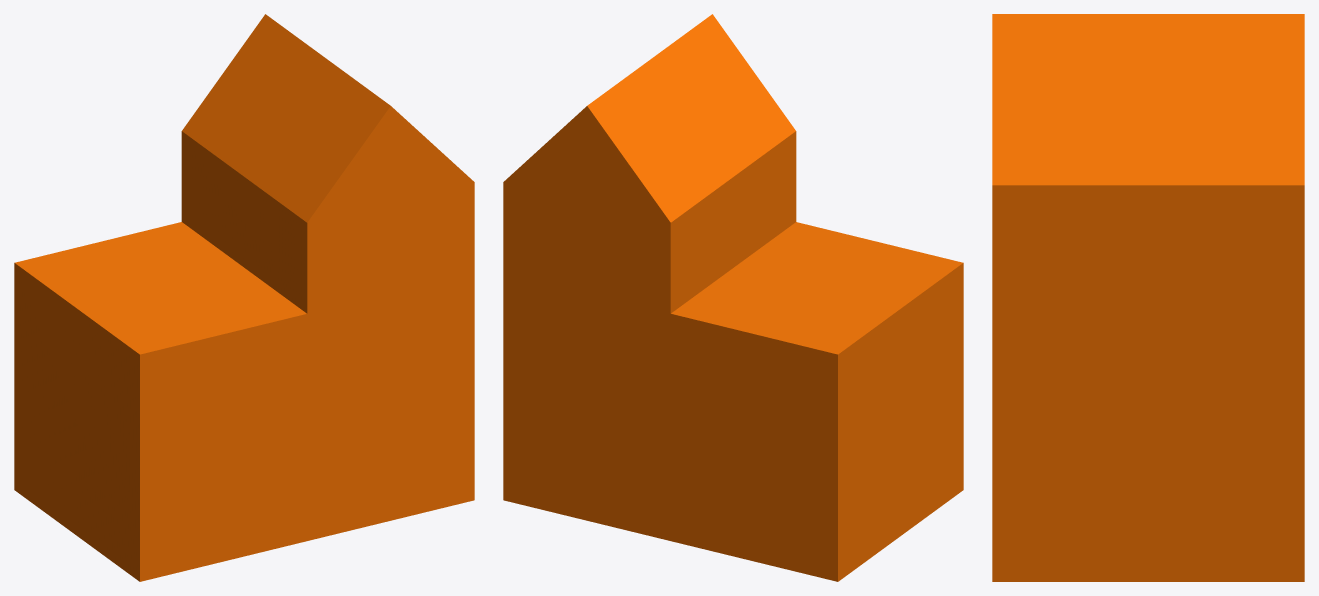
Rendered from orangeCity.fbx.
3 renders of one model, left to right at view 1: azimuth 30°, elevation 25°; view 2: azimuth 150°, elevation 25°; view 3: azimuth 270°, elevation 25°, orthographic. The views are drawn at different scales.
Parts seen in each view (by area): view 1: orangeCity; view 2: orangeCity; view 3: orangeCity.
Part boxes in pixels (<box>): orangeCity: <box>14,14,474,581</box>; orangeCity: <box>503,14,963,581</box>; orangeCity: <box>992,14,1304,581</box>.
Size of the model in its own units: 308 by 365 by 200.
